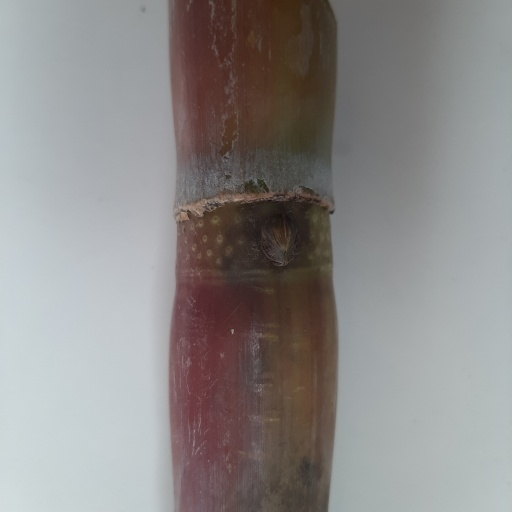Bud: (257, 212, 302, 268)
